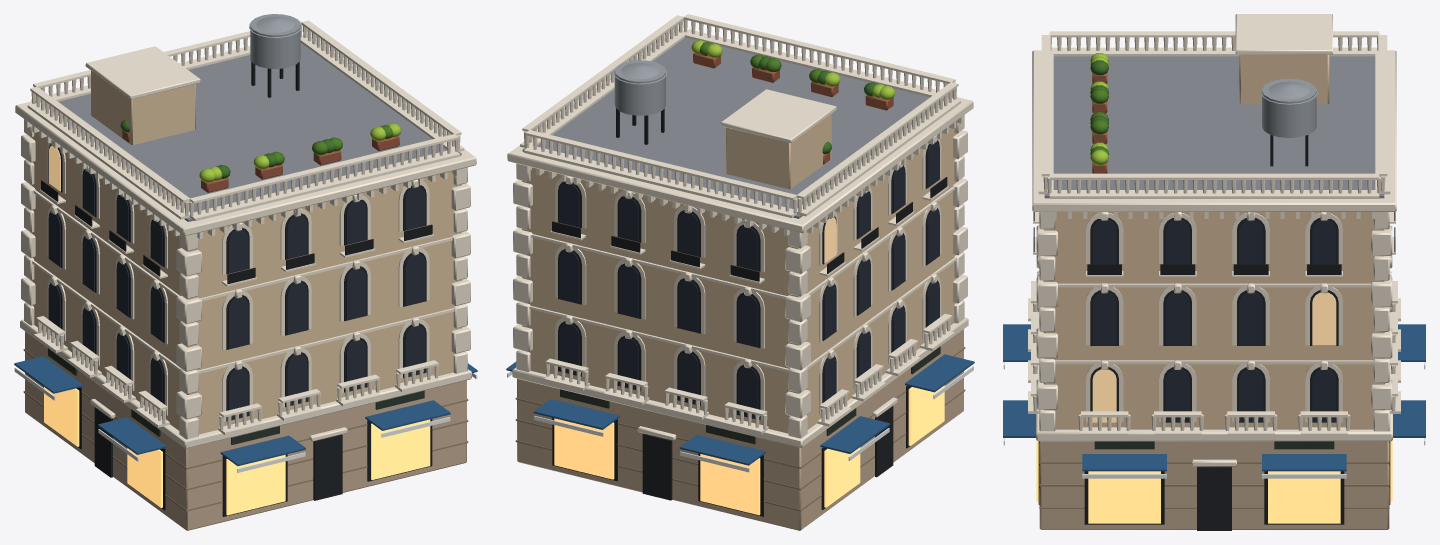
File: building_it_c.fbx
3 renders of one model, left to right at view 1: azimuth 30°, elevation 25°; view 2: azimuth 150°, elevation 25°; view 3: azimuth 270°, elevation 25°, orthographic. The views are drawn at different scales.
Visible parts, largest first — view 1: building_it_c; view 2: building_it_c; view 3: building_it_c.
Part boxes in pixels (x1,y1,x2,y2): building_it_c: (14,14,477,530); building_it_c: (506,14,974,530); building_it_c: (1003,14,1425,530).
Bounding box in the file's own units: 16.94 × 17.9 × 16.94.
